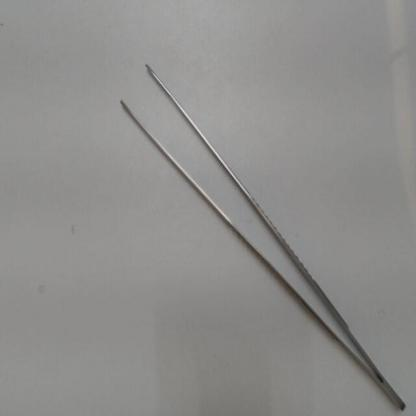DeBakey Dissector: (107, 57, 412, 413)
